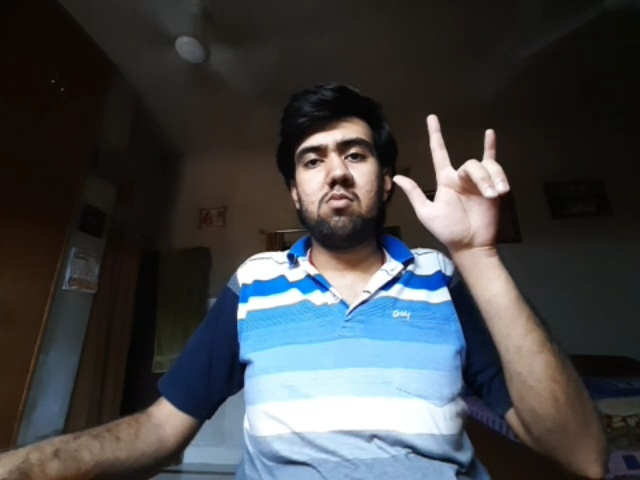ILoveYou: (392, 112, 512, 248)
